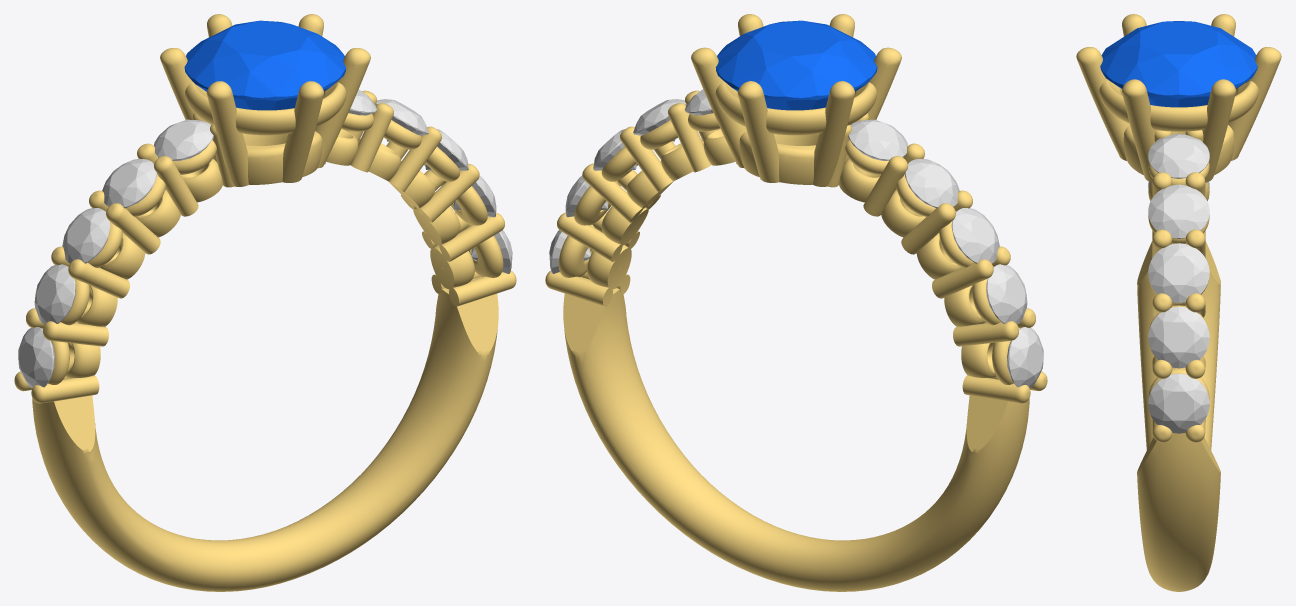
Rendered from bluesapphire-round-yellowgold-6prong-taperedband-11stone.glb.
3 views of the same model, side by side, from view 1: azimuth 30°, elevation 25°; view 2: azimuth 150°, elevation 25°; view 3: azimuth 270°, elevation 25° (orthographic). The views are drawn at different scales.
Parts seen in each view (by area): view 1: metal, stone, side.004, side.006, side.002, side.008, side, side.007; view 2: metal, stone, side.004, side.006, side.002, side.008, side, side.007; view 3: metal, stone, side.003, side.001, side.005, side.007, side.009.
Part boxes in pixels (<box>): metal: <box>14,14,516,591</box>; stone: <box>184,20,345,110</box>; side.004: <box>62,208,110,263</box>; side.006: <box>102,159,156,208</box>; side.002: <box>34,264,75,324</box>; side.008: <box>154,119,213,160</box>; side: <box>18,327,54,388</box>; side.007: <box>375,99,428,141</box>; metal: <box>545,14,1047,591</box>; stone: <box>715,20,877,110</box>; side.004: <box>951,208,999,263</box>; side.006: <box>905,159,959,208</box>; side.002: <box>986,264,1027,324</box>; side.008: <box>848,119,907,160</box>; side: <box>1007,327,1043,388</box>; side.007: <box>633,99,686,141</box>; metal: <box>1076,14,1281,591</box>; stone: <box>1100,21,1257,107</box>; side.003: <box>1148,306,1209,368</box>; side.001: <box>1148,373,1209,433</box>; side.005: <box>1148,243,1209,303</box>; side.007: <box>1148,184,1209,238</box>; side.009: <box>1148,134,1209,178</box>.
Size of the model in its own units: 22.03 by 23.81 by 8.35.
